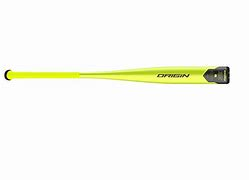bat: (4, 65, 232, 86)
